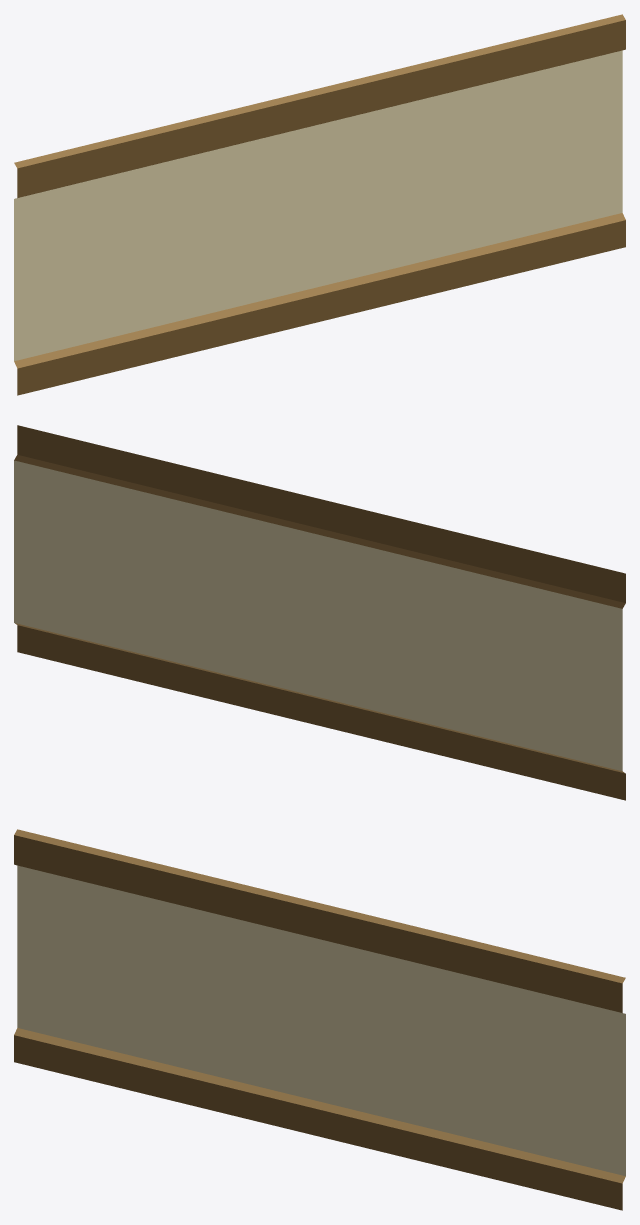
The model's file is Itr_Wall_Base_01.FBX.
The picture shows the model from 3 angles, top to bottom: view 1: azimuth 30°, elevation 25°; view 2: azimuth 150°, elevation 25°; view 3: azimuth 330°, elevation 25°; orthographic projection.
Parts seen in each view (by area): view 1: Itr_Wall_Base_01; view 2: Itr_Wall_Base_01; view 3: Itr_Wall_Base_01.
Part boxes in pixels (x1,y1,x2,y2): Itr_Wall_Base_01: (14,14,625,395); Itr_Wall_Base_01: (14,425,625,800); Itr_Wall_Base_01: (14,829,625,1210).
Size of the model in its own units: 118 by 42.73 by 1.14.
